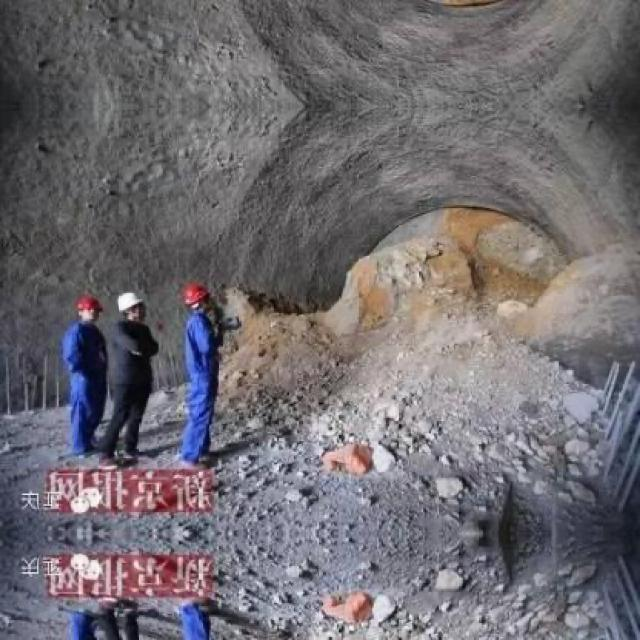helmet: (183, 276, 217, 316), (117, 288, 149, 321), (74, 294, 101, 322)
